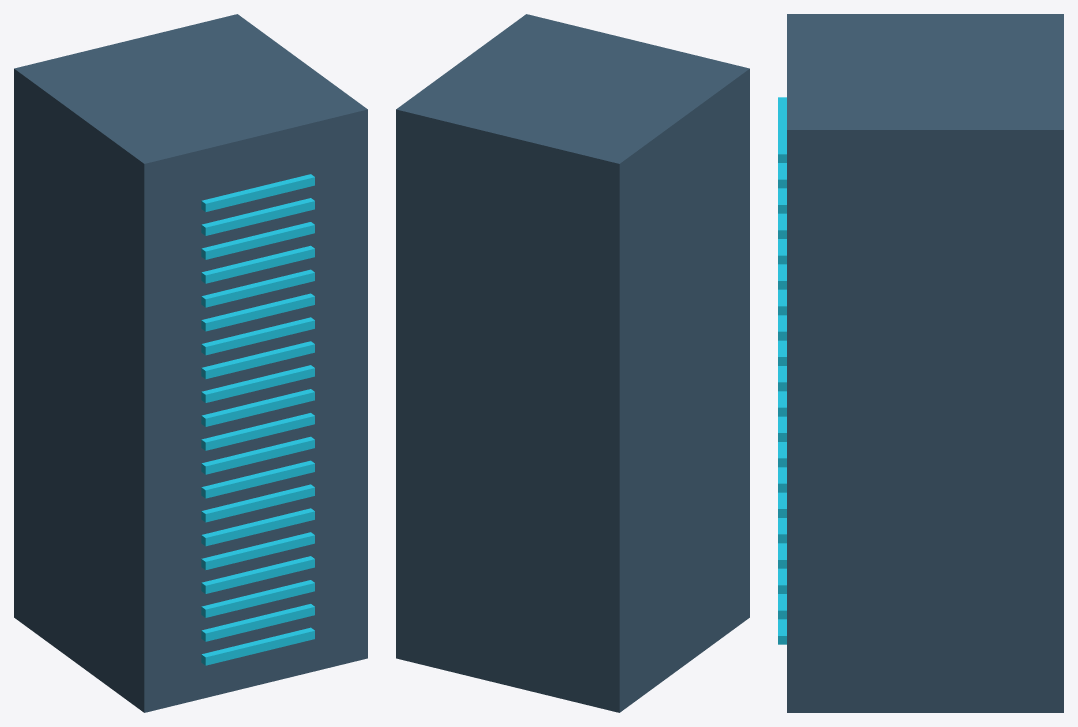
File: 17_L79_GantryZPrecisionElevator.fbx
3 renders of one model, left to right at view 1: azimuth 30°, elevation 25°; view 2: azimuth 150°, elevation 25°; view 3: azimuth 270°, elevation 25°, orthographic. The views are drawn at different scales.
Parts seen in each view (by area): view 1: GantryZPrecisionElevator; view 2: GantryZPrecisionElevator; view 3: GantryZPrecisionElevator.
Boxes of the visible parts, <box> form: GantryZPrecisionElevator: <box>14,14,367,712</box>; GantryZPrecisionElevator: <box>396,14,749,712</box>; GantryZPrecisionElevator: <box>778,14,1063,712</box>.
Bounding box in the file's own units: 98 × 232 × 102.
